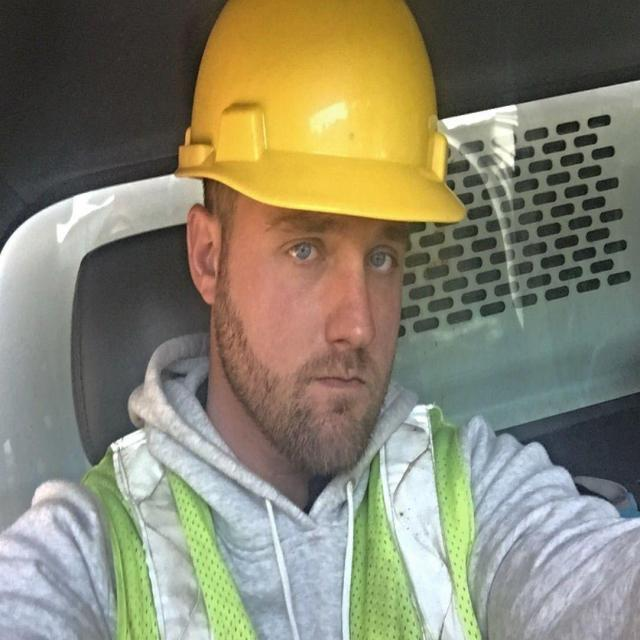helmet: (173, 5, 470, 223)
